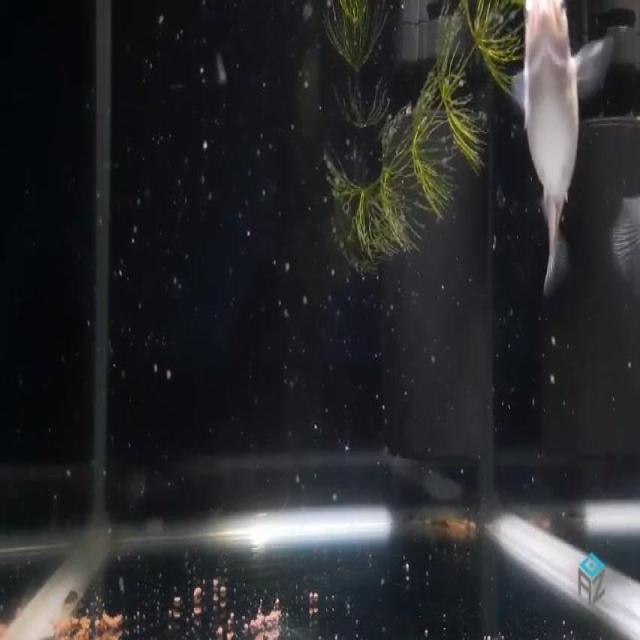PlatyFish: (498, 0, 622, 327)
